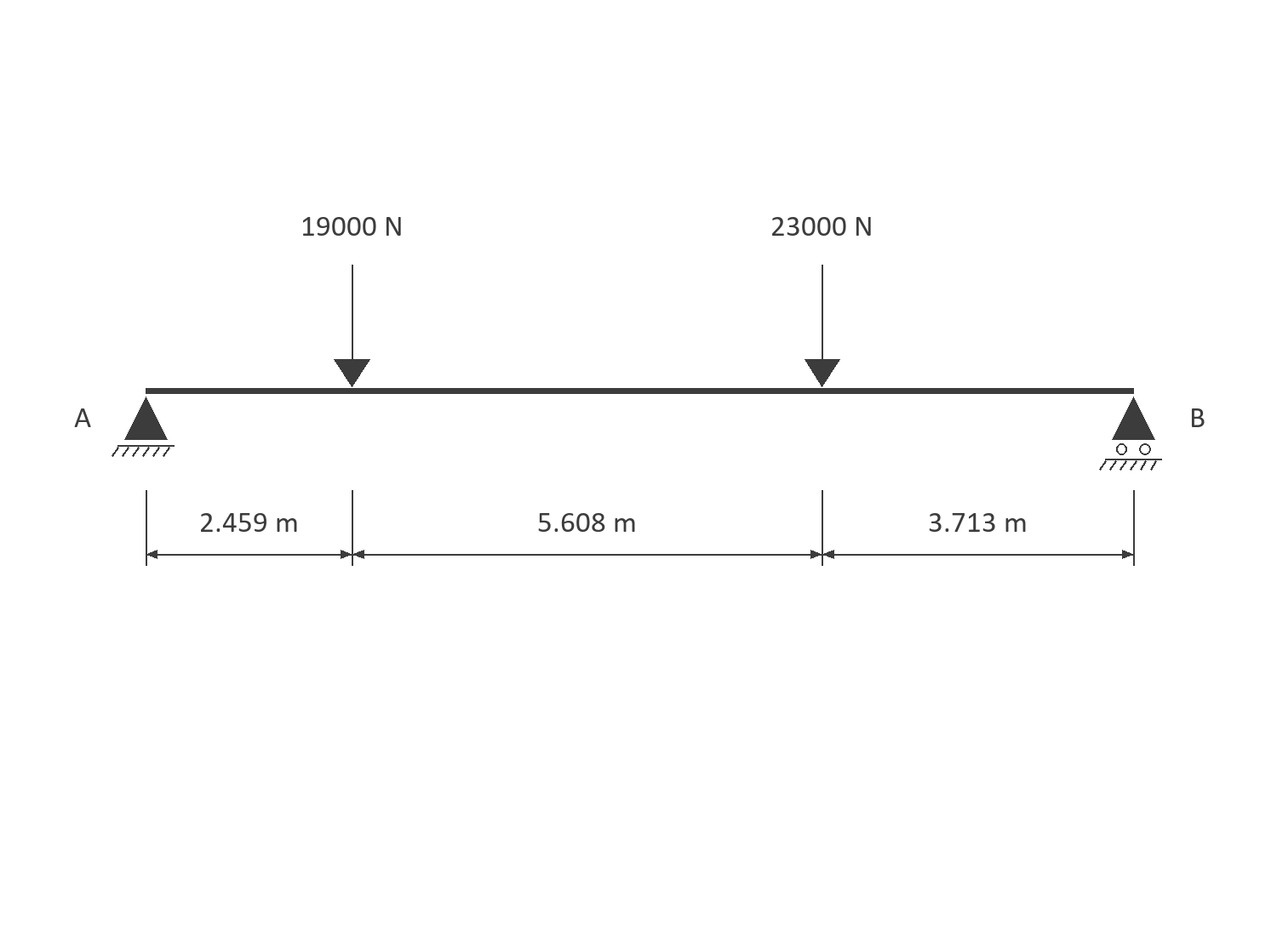pin_support: (112, 397, 175, 457)
point_load: (334, 265, 370, 387), (805, 265, 840, 387)
roller_support: (1099, 397, 1162, 471)
